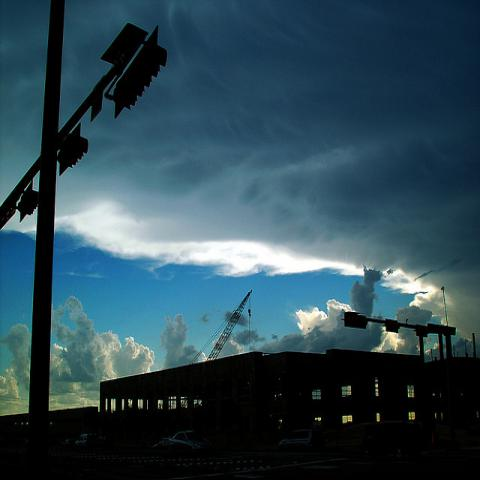car: (356, 420, 435, 460), (276, 427, 324, 453), (170, 429, 214, 453), (75, 434, 88, 452), (88, 434, 105, 442)
